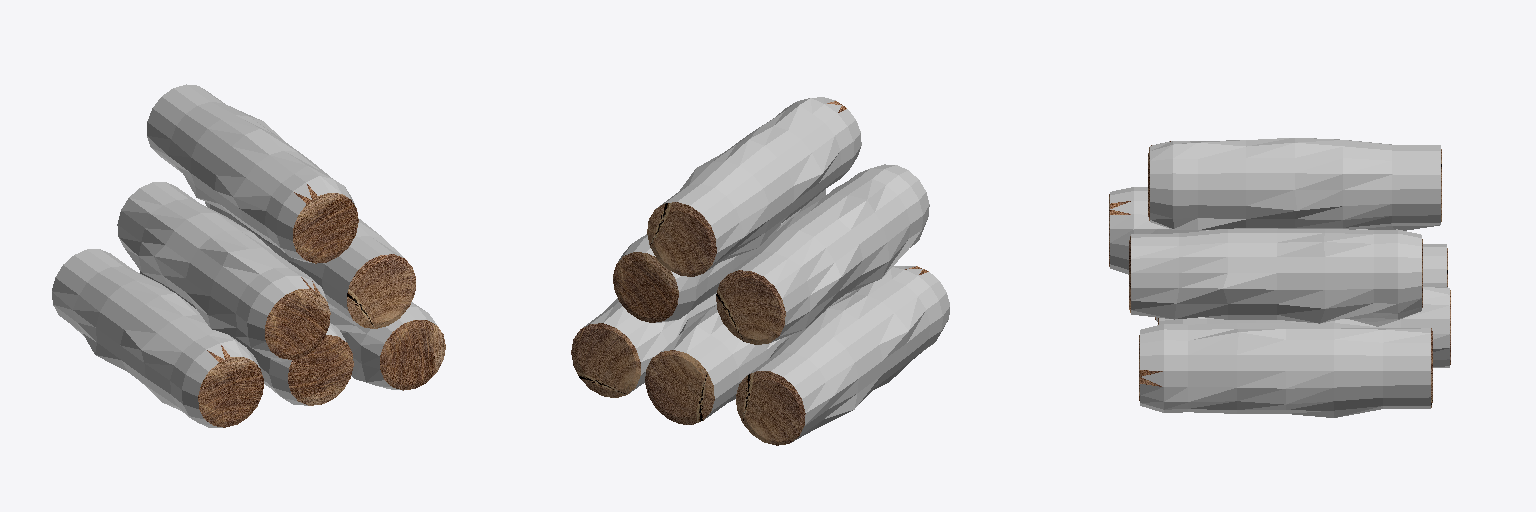
The picture shows the model from 3 angles: view 1: azimuth 30°, elevation 25°; view 2: azimuth 150°, elevation 25°; view 3: azimuth 270°, elevation 25°; orthographic projection.
Parts seen in each view (by area): view 1: Wood.004, Wood.005, Wood, Wood.003, Wood.002, Wood.001; view 2: Wood.004, Wood.005, Wood, Wood.001, Wood.002, Wood.003; view 3: Wood.003, Wood.002, Wood.005, Wood.001, Wood.004, Wood.
Part boxes in pixels (x1,y1,x2,y2): Wood.004: (117,182,330,361); Wood.005: (147,84,358,263); Wood: (52,249,263,427); Wood.003: (205,202,415,328); Wood.002: (328,302,445,390); Wood.001: (140,271,353,405); Wood.004: (716,164,929,344); Wood.005: (647,97,861,276); Wood: (736,266,949,445); Wood.001: (645,290,855,424); Wood.002: (571,293,716,397); Wood.003: (613,189,825,322); Wood.003: (1129,228,1422,323); Wood.002: (1139,319,1432,417); Wood.005: (1148,138,1441,230); Wood.001: (1158,287,1450,367); Wood.004: (1109,187,1367,274); Wood: (1155,244,1447,321).
Bounding box in the file's own units: 6.44 × 5.73 × 7.47.
Materials: 2 (1 with a texture image).